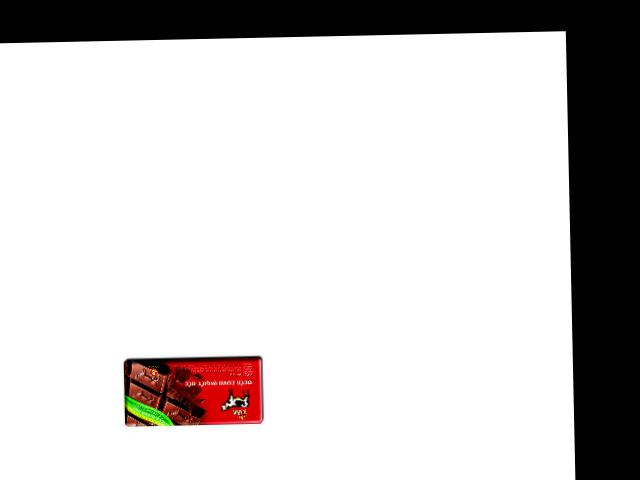chocolate: (123, 349, 267, 428)
